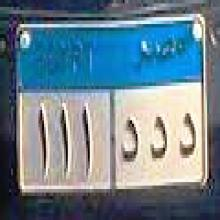1: (33, 98, 51, 178), (56, 102, 74, 181), (78, 100, 94, 181)
daal: (175, 102, 198, 167), (148, 111, 170, 170), (118, 110, 140, 166)
